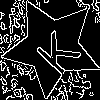K: (27, 22, 82, 78)
